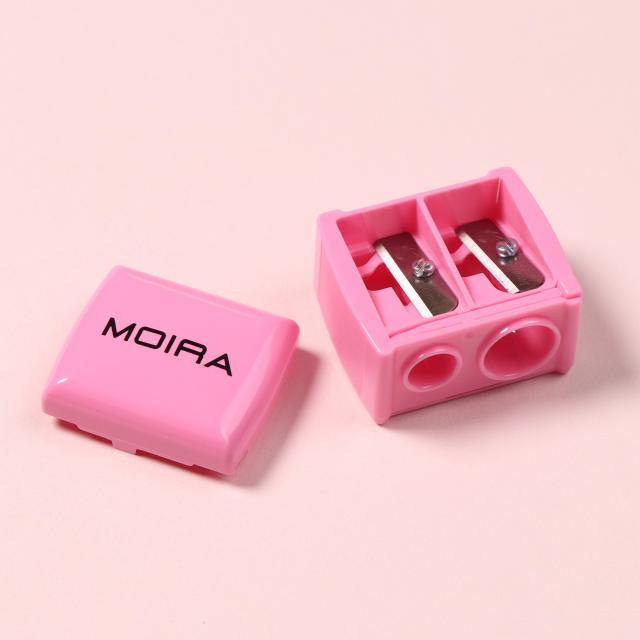pencil_sharpener: (306, 179, 600, 427)
